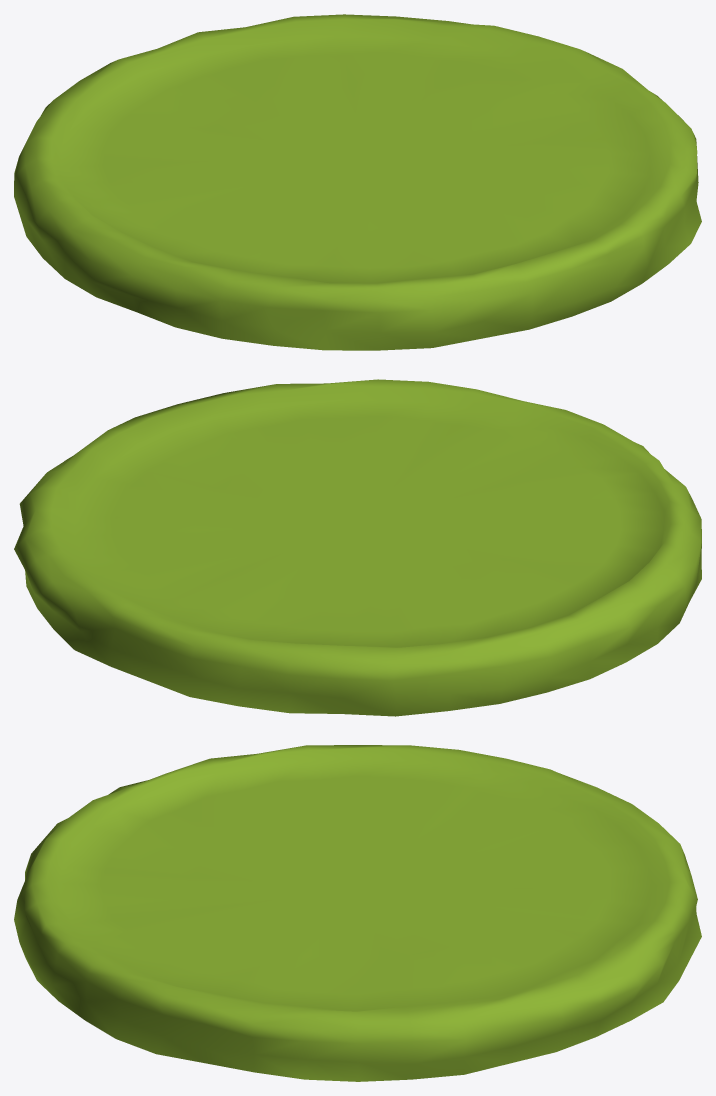
Rendered from Ground.fbx.
3 views of the same model, one above another, from view 1: azimuth 30°, elevation 25°; view 2: azimuth 150°, elevation 25°; view 3: azimuth 270°, elevation 25° (orthographic).
Parts seen in each view (by area): view 1: Ground; view 2: Ground; view 3: Ground.
Boxes of the visible parts, bbox=[...] form: Ground: bbox=[14, 14, 701, 350]; Ground: bbox=[14, 379, 701, 716]; Ground: bbox=[14, 745, 701, 1081].
Size of the model in its own units: 5264 by 477 by 5250.
